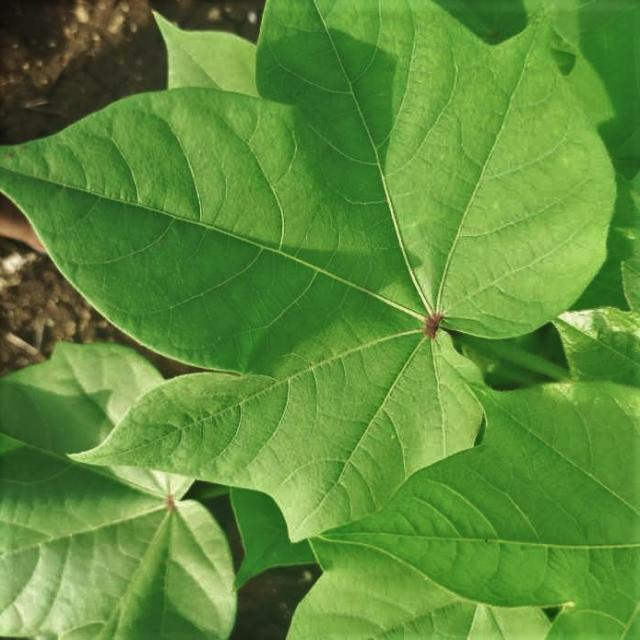Healthy Leaf: (34, 9, 640, 640)
